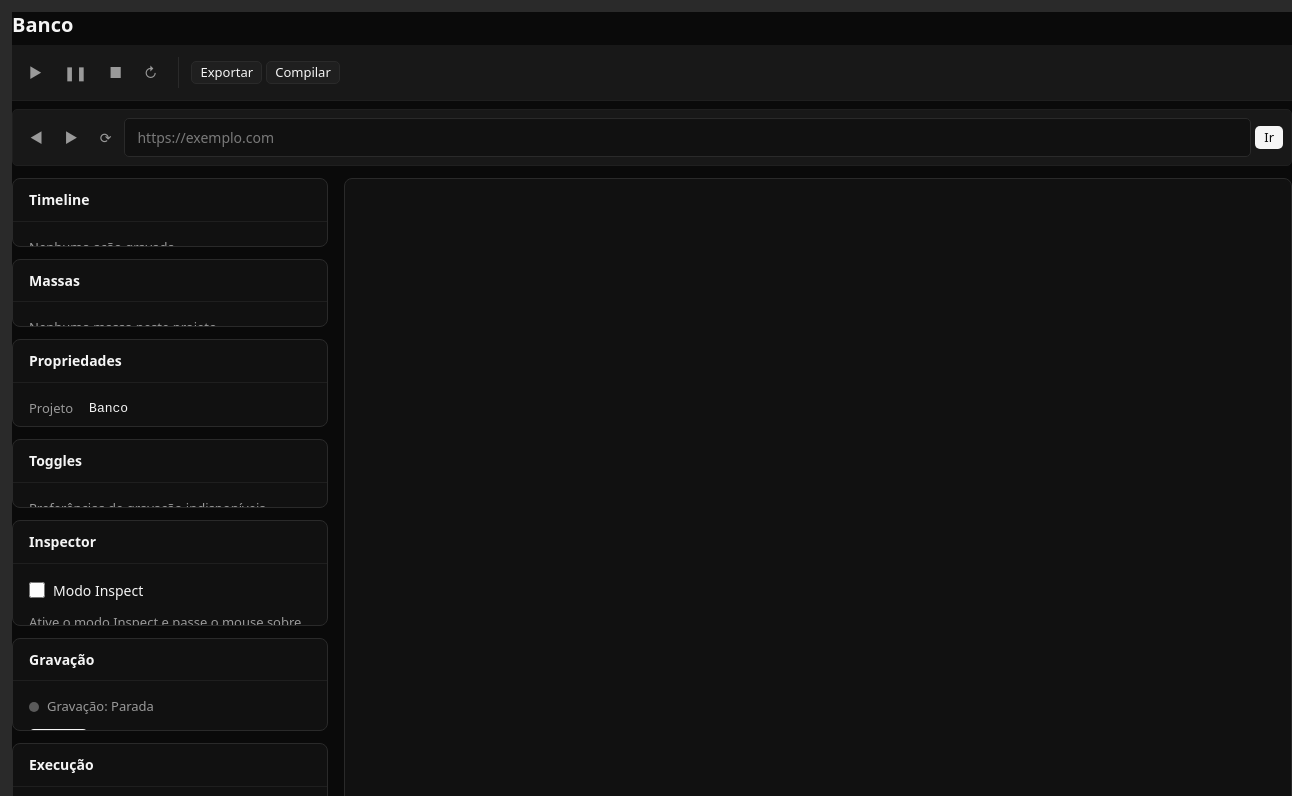
Test case: AutomationView (PRD §9, §15) › shows a failed result when the run exits non-zero
Click the button named "Play". click: (35, 72)
box: [20,53,51,92]
(page scrolled)
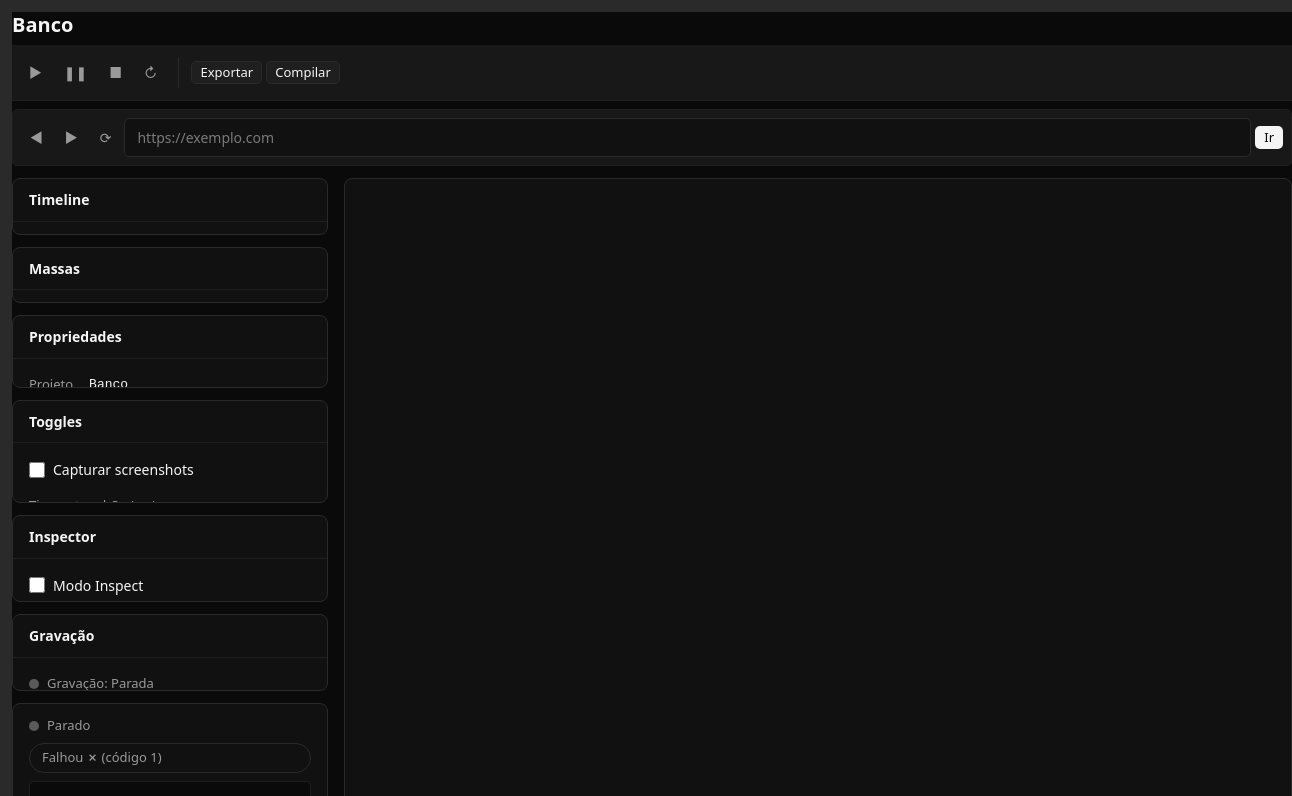
Check: the text "Falhou ✗ (código 1)" is shown, box [29,743,311,773]
